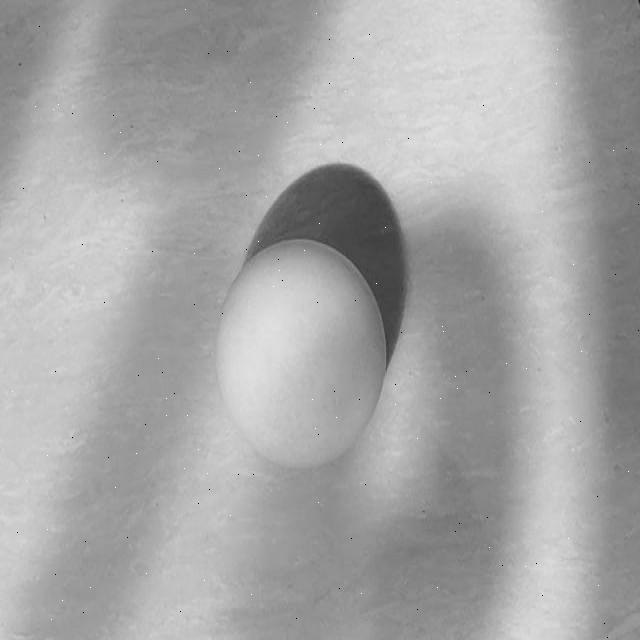ping-pong-ball: (224, 248, 382, 468)
